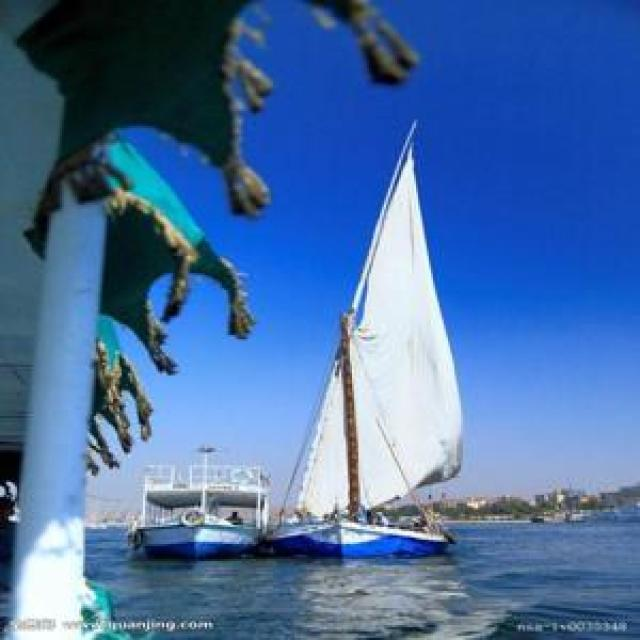houseboat: (124, 432, 268, 561)
passenger ship: (270, 111, 452, 555)
